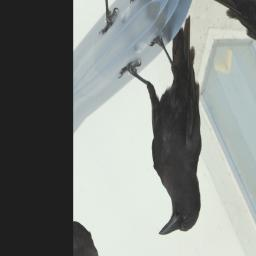Crow: (94, 3, 255, 255)
